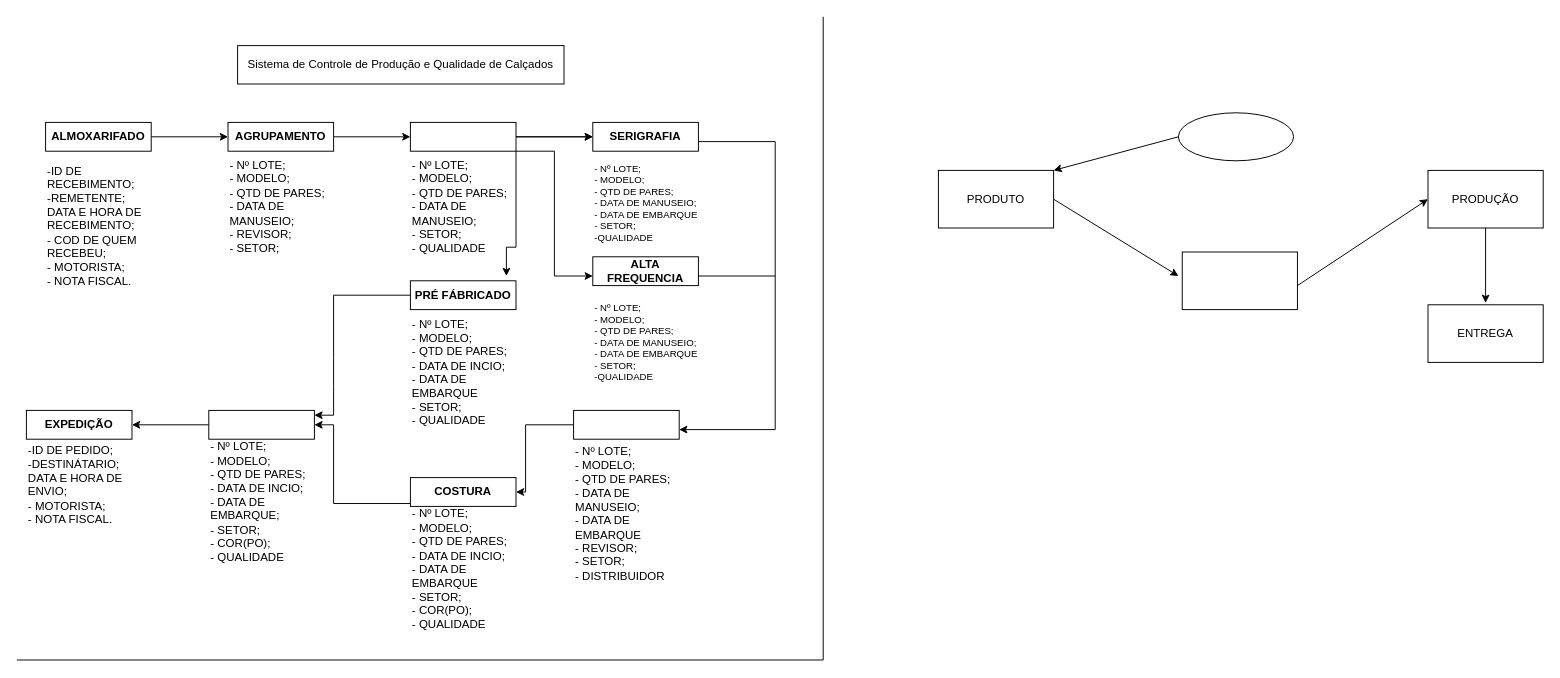
Image size: 1560x678. Some labels were removed from this diagram. Each missing label, with the centre of its shape:
AGRUPAMENTO 2: the point at 626,424
CORTE: the point at 462,136
MARCA: the point at 1235,136
MONTAGEM: the point at 261,424
PEDIDO: the point at 1239,280
